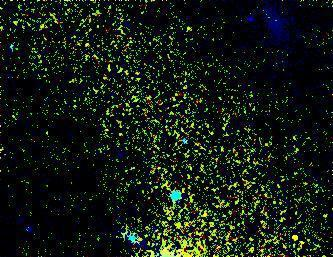star: (281, 222, 311, 252)
